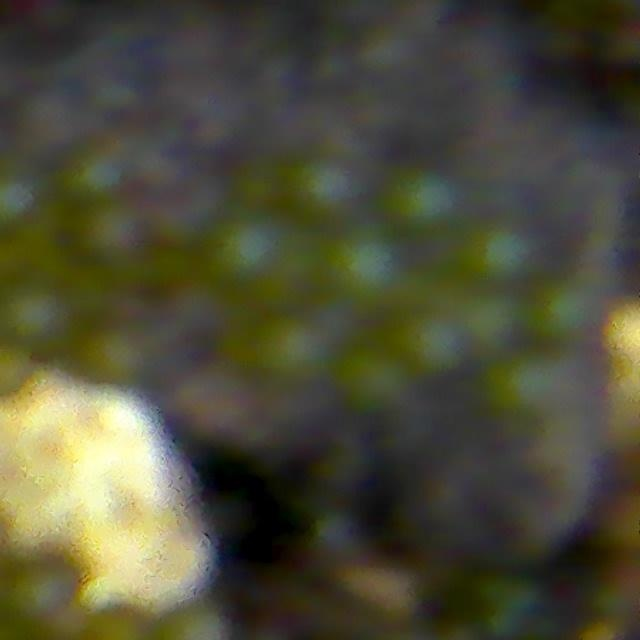SeaGrape: (321, 231, 405, 317), (394, 157, 463, 244), (250, 308, 327, 381), (522, 272, 595, 344), (161, 279, 233, 351), (466, 218, 540, 288), (486, 351, 554, 427), (296, 157, 373, 224), (330, 344, 403, 414), (74, 317, 147, 387), (399, 306, 470, 375), (7, 277, 74, 347), (47, 148, 126, 207), (457, 284, 520, 351), (10, 560, 77, 622), (207, 221, 267, 284), (87, 201, 140, 268)
